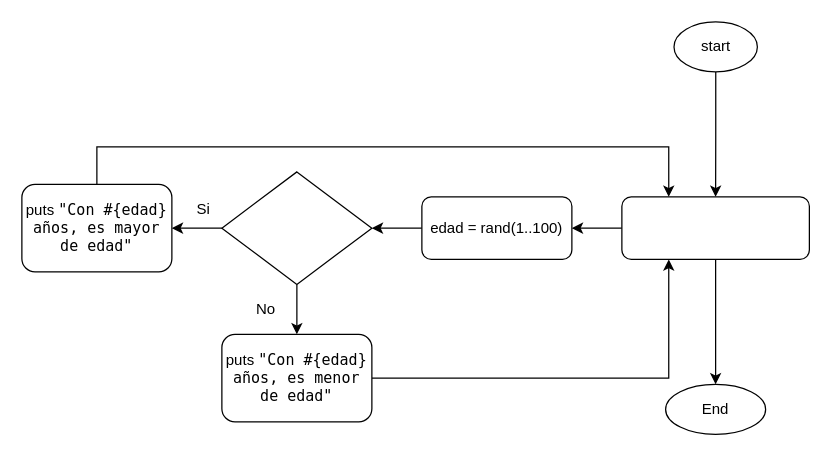
The diagram is 831 pixels wide and 456 high, and some of its shapes have lost their labels. The shapes that lost their labels are listed below. From the top down, each one's box as (x1, y1, x2, y2) in pixels, then its label:
(221, 171, 372, 284): if edad >= 18
(621, 196, 809, 259): 3.times do validar_edad
